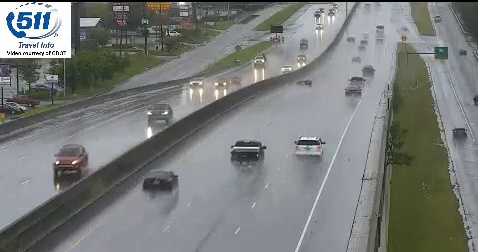car: (230, 141, 264, 163), (143, 171, 178, 190), (295, 136, 323, 158), (345, 85, 362, 96)
